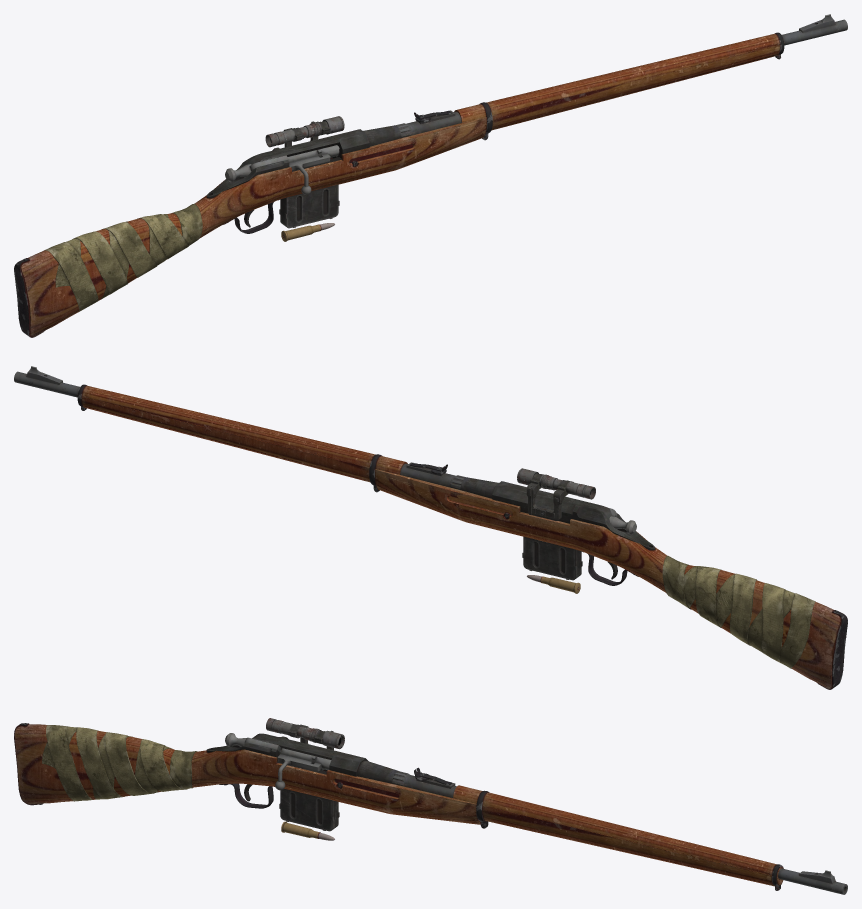
Rendered from bolt_action_rifle.glb.
3 views of the same model, one above another, from view 1: azimuth 30°, elevation 25°; view 2: azimuth 150°, elevation 25°; view 3: azimuth 330°, elevation 25° (orthographic).
Visible parts, largest first — view 1: bolt_action_rifle_7_62, bolt_action_rifle_7_62_wrap, bolt_action_rifle_7_62_scope, bolt_action_rifle_7_62_bolt_a; view 2: bolt_action_rifle_7_62, bolt_action_rifle_7_62_wrap, bolt_action_rifle_7_62_scope; view 3: bolt_action_rifle_7_62, bolt_action_rifle_7_62_wrap, bolt_action_rifle_7_62_scope, bolt_action_rifle_7_62_bolt_a, bolt_action_rifle_7_62_bullet_54mm, bolt_action_rifle_7_62_bolt_b.
Part boxes in pixels (box(x1,y1,x2,y2)): bolt_action_rifle_7_62: box(14, 14, 847, 337); bolt_action_rifle_7_62_wrap: box(44, 203, 202, 311); bolt_action_rifle_7_62_scope: box(265, 116, 344, 147); bolt_action_rifle_7_62_bolt_a: box(287, 145, 339, 194); bolt_action_rifle_7_62: box(14, 366, 847, 689); bolt_action_rifle_7_62_wrap: box(662, 556, 815, 668); bolt_action_rifle_7_62_scope: box(517, 468, 595, 520); bolt_action_rifle_7_62: box(14, 723, 847, 894); bolt_action_rifle_7_62_wrap: box(42, 725, 197, 801); bolt_action_rifle_7_62_scope: box(266, 718, 344, 750); bolt_action_rifle_7_62_bolt_a: box(275, 748, 331, 790); bolt_action_rifle_7_62_bullet_54mm: box(281, 821, 334, 840); bolt_action_rifle_7_62_bolt_b: box(225, 733, 324, 770).
Bounding box in the file's own units: 1.23 × 0.2045 × 0.0666.
Materials: 3 (3 with a texture image).
